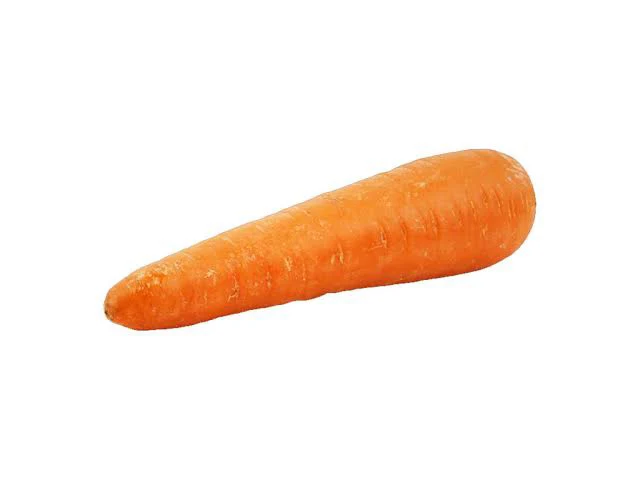carrot: (83, 123, 568, 369)
